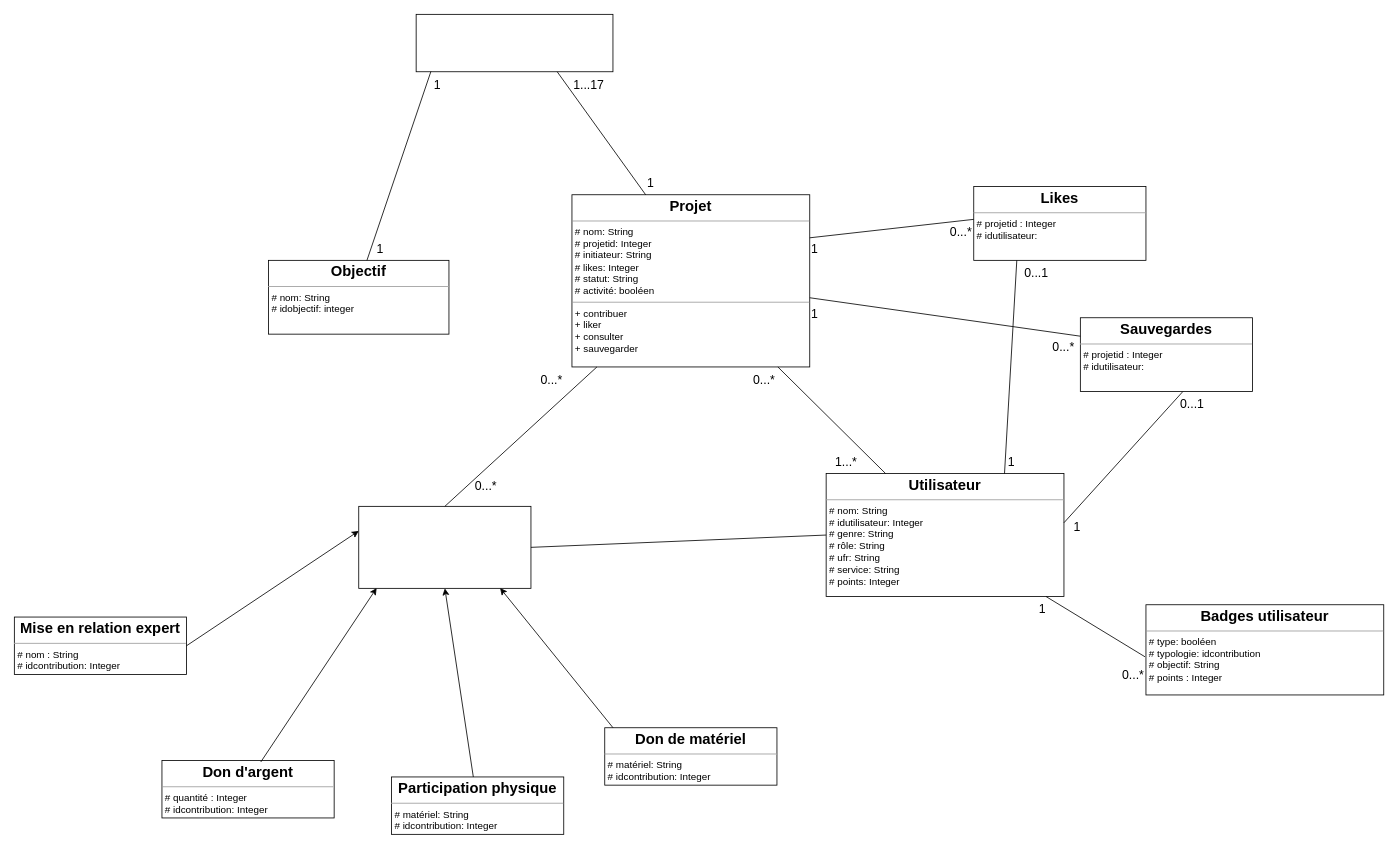
Image size: 1398x849. Some labels were removed from this diagram. Each missing label, with the box of its shape:
Badges projet # idobjectif: Integer: (415, 14, 613, 72)
Contributions # type: String # points : Integer: (358, 506, 531, 588)
